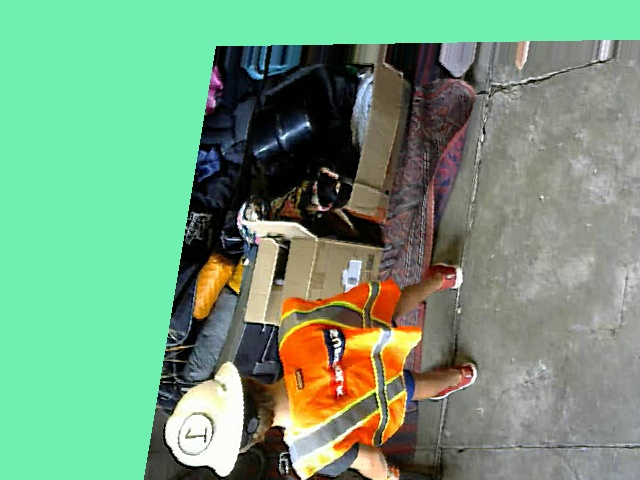one: (173, 413, 214, 455)
